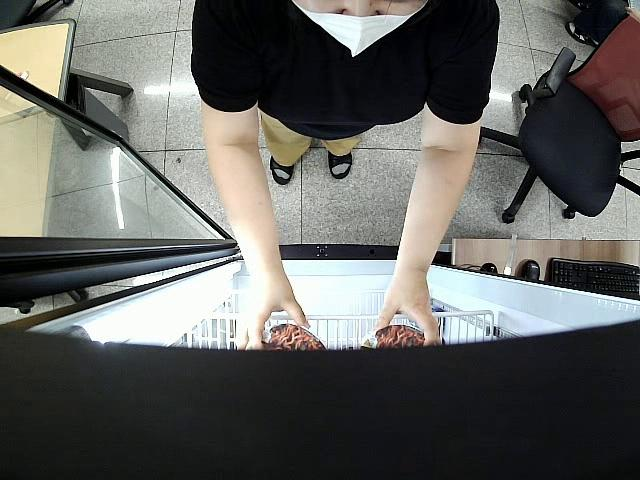00_hand: (237, 283, 310, 355), (375, 276, 441, 347)
03_chapagetti_L: (361, 322, 438, 349), (260, 323, 327, 351)
